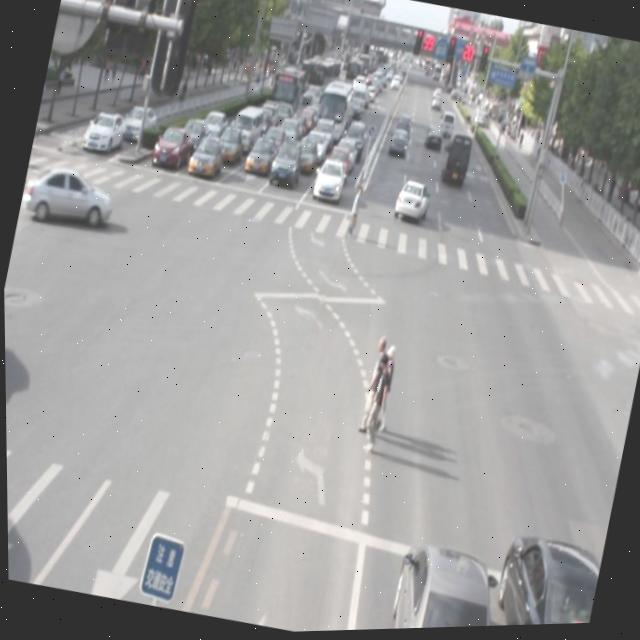car: (472, 532, 601, 629), (376, 538, 502, 631)
